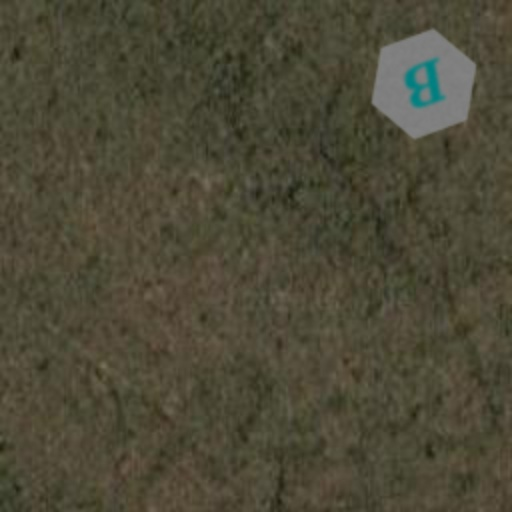hexagon: (352, 12, 496, 156)
